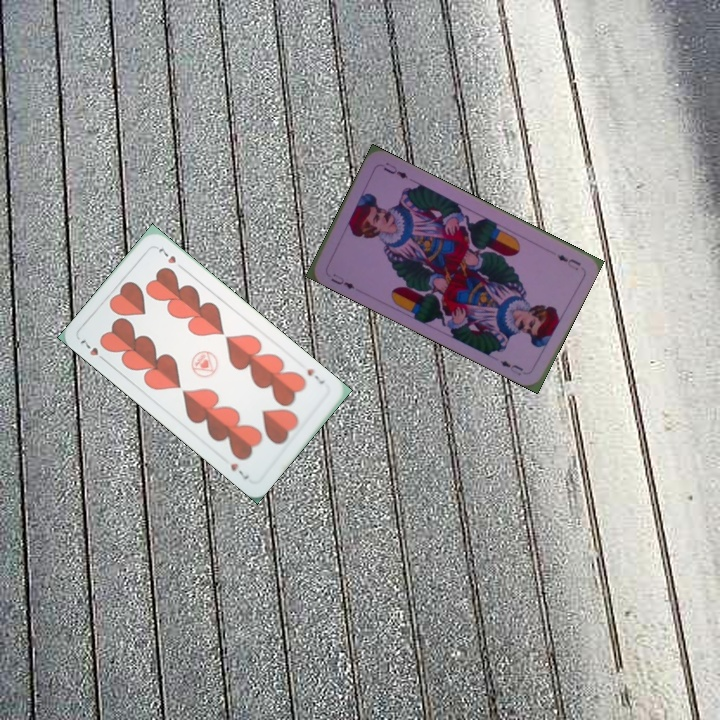EU: (553, 250, 583, 273), (327, 270, 357, 292)
H7: (76, 334, 109, 365), (303, 364, 327, 387)
